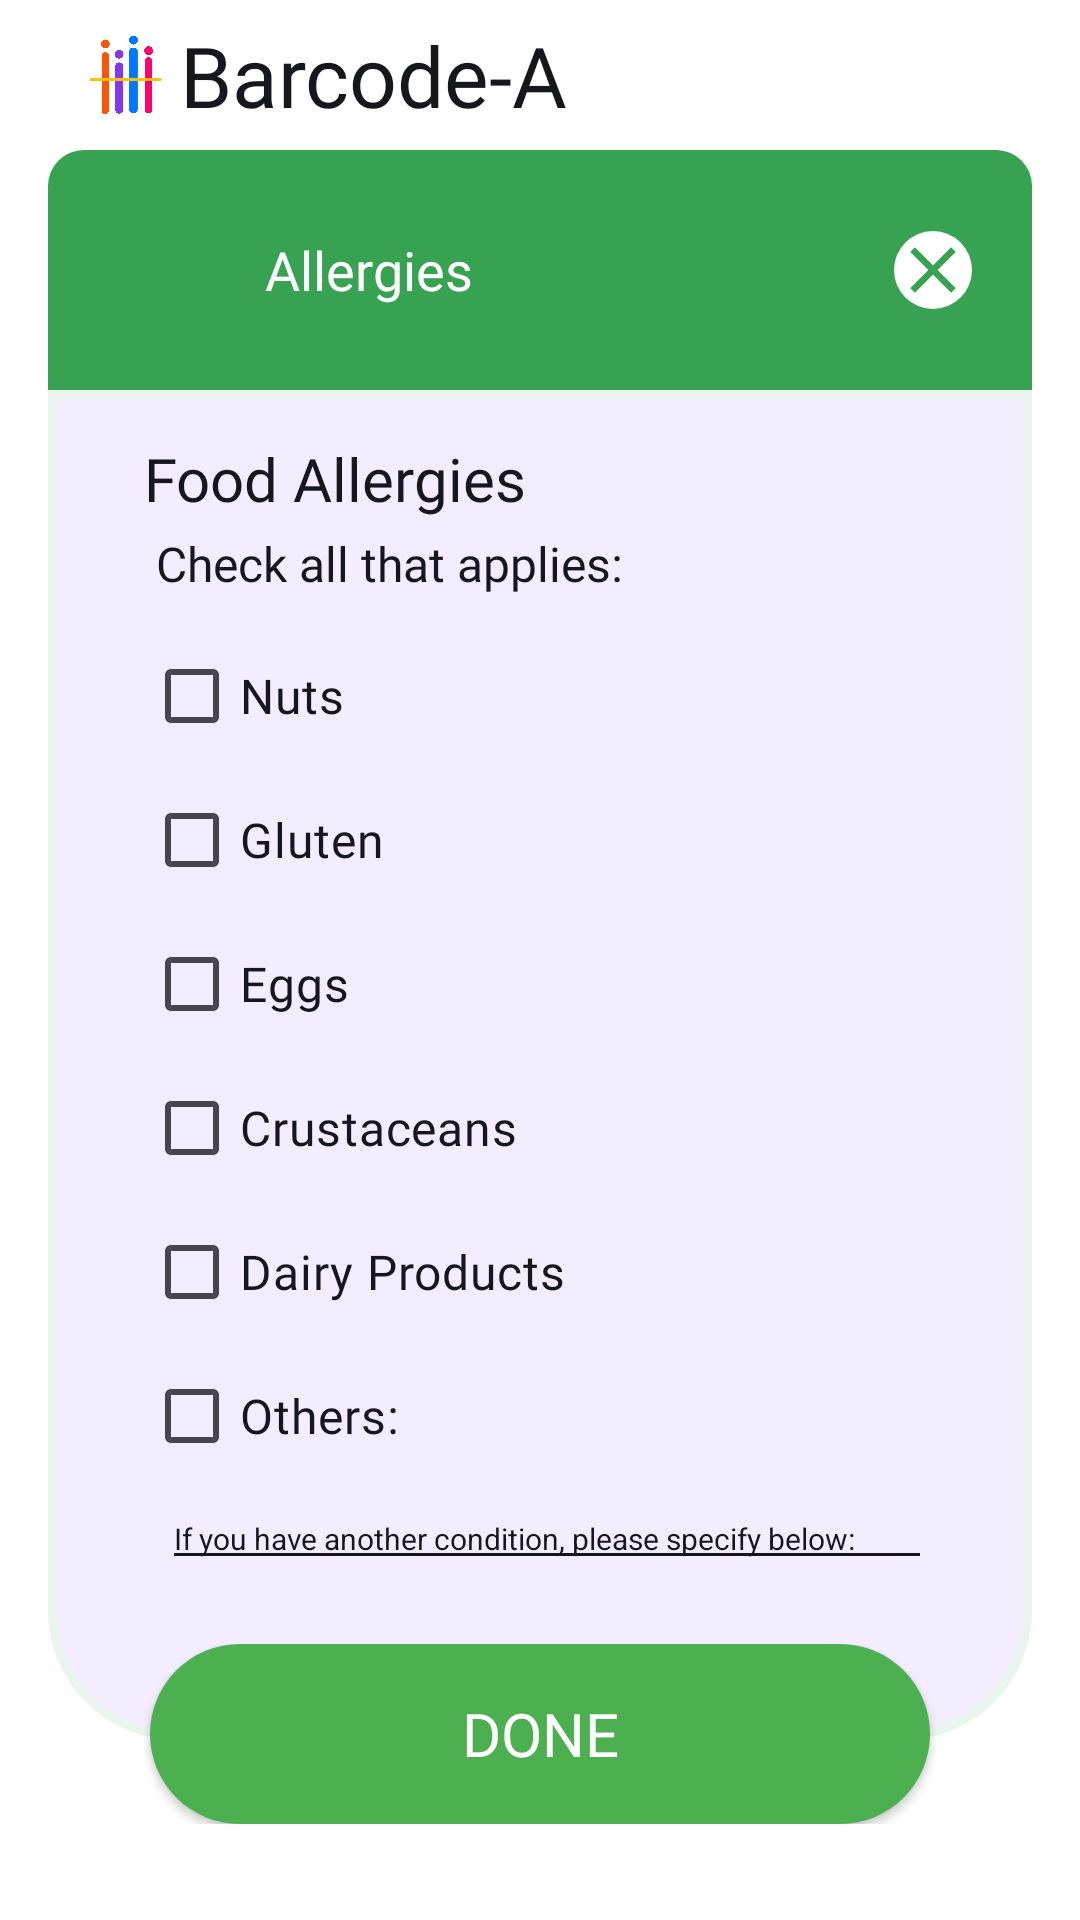

Where to tap for icons on this 1080 × 1920 app screen, as (x=x, y=y):
close: (x=933, y=270)
